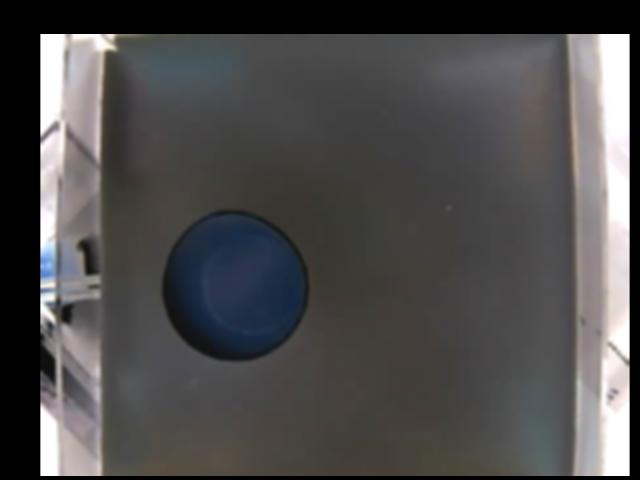Cup: (160, 210, 309, 365)
